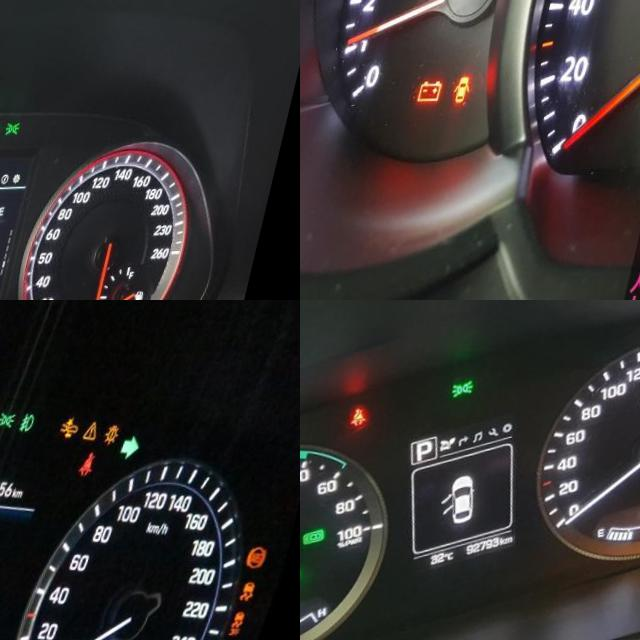Central Warning lamp: (90, 424, 110, 446)
FrontFogLight: (26, 415, 45, 437)
Low beam: (0, 126, 8, 138)
SideLamp: (458, 381, 487, 402), (3, 412, 26, 433), (13, 125, 29, 140)
